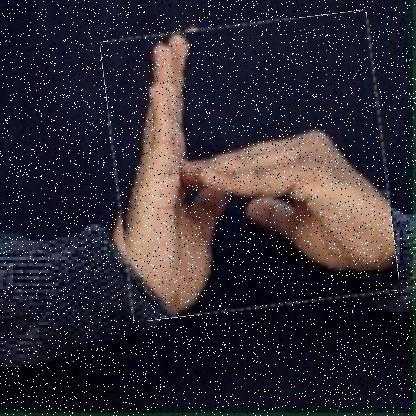Z: (108, 18, 392, 315)
